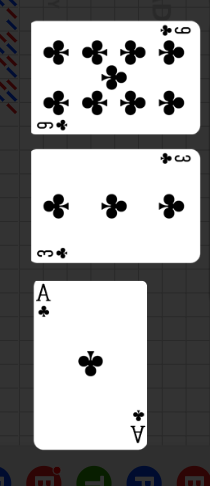3C: (35, 245, 70, 260)
9C: (35, 117, 70, 132)
AC: (128, 407, 145, 445)
